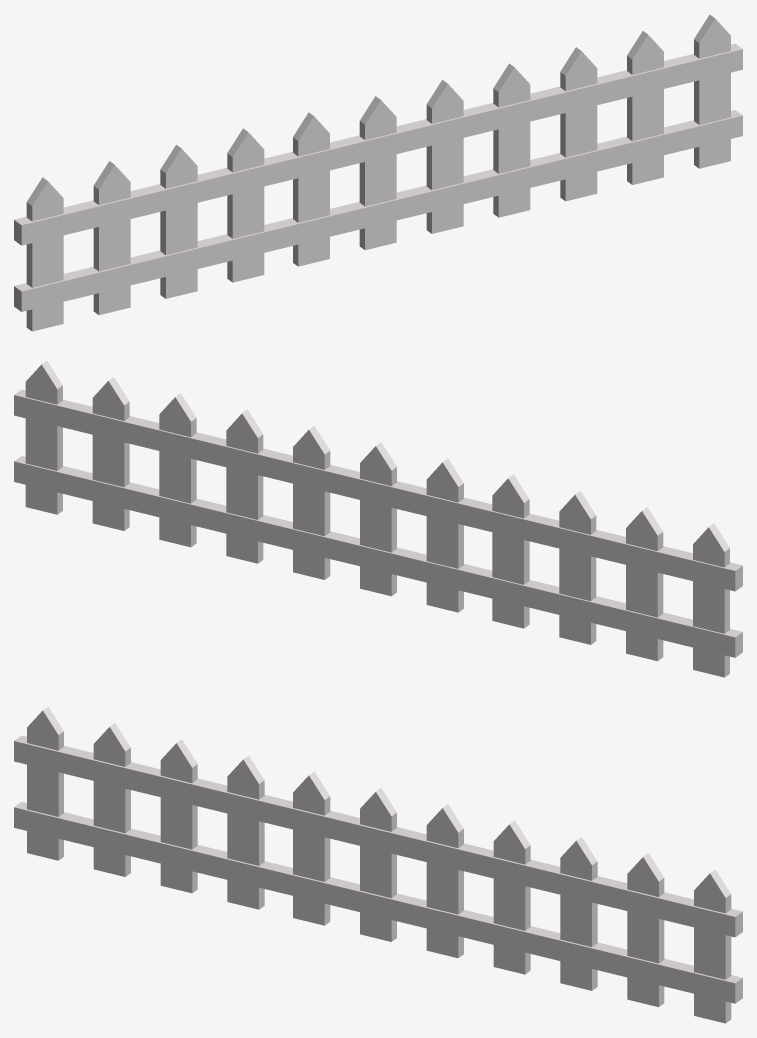
The model's file is Backyard_Fence_231109.glb.
3 views of the same model, one above another, from view 1: azimuth 30°, elevation 25°; view 2: azimuth 150°, elevation 25°; view 3: azimuth 330°, elevation 25° (orthographic).
Parts seen in each view (by area): view 1: Backyard_Fence; view 2: Backyard_Fence; view 3: Backyard_Fence.
Boxes of the visible parts, x1=… form: Backyard_Fence: x1=14, y1=14, x2=742, y2=331; Backyard_Fence: x1=14, y1=360, x2=742, y2=677; Backyard_Fence: x1=14, y1=706, x2=742, y2=1023.
Size of the model in its own units: 2.31 by 0.4487 by 0.0423.
1 material, 1 textured.
